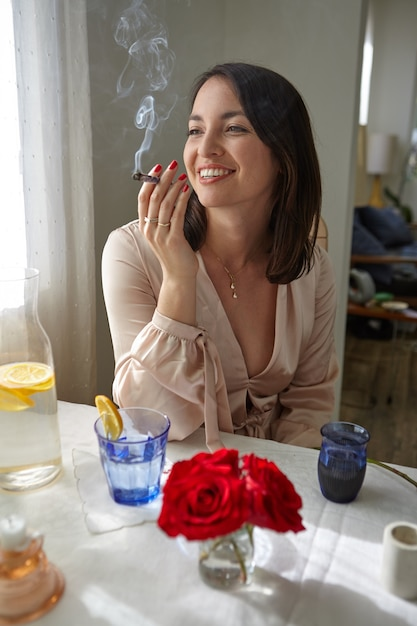cigarette: (132, 169, 161, 186)
